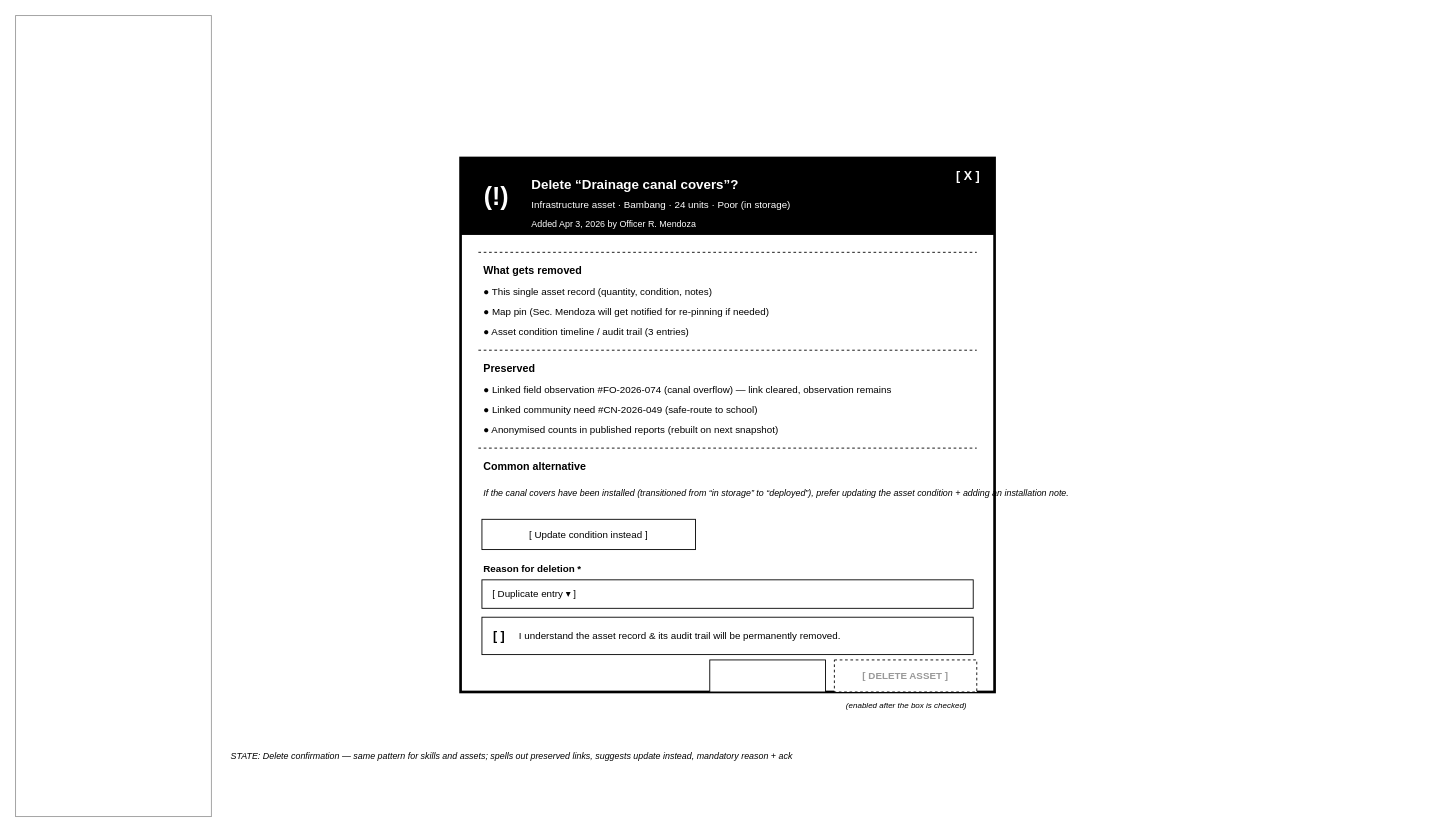
Some shapes in this 1437 by 832 pixel diagram are drawn without their labels. Here are the shapes that lost their labels. From the top down, the centre of each, then its label:
At pixel 113 416: "AGAPE".
At pixel 767 675: "[ CANCEL ]".
